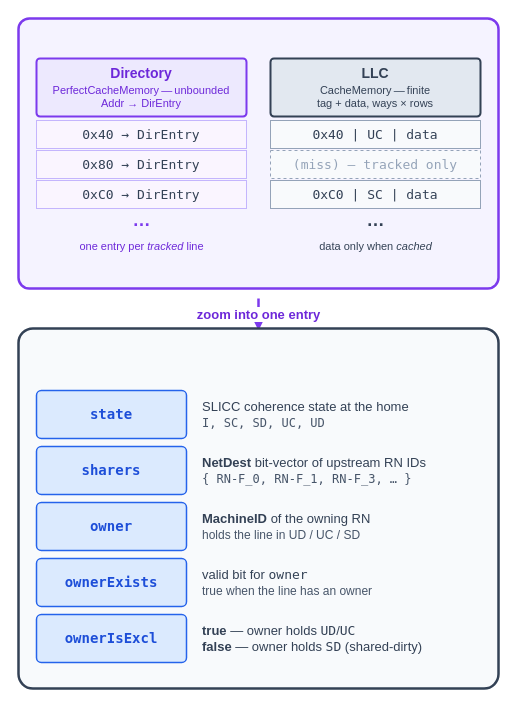
Image size: 517x707. Some labels were removed from this diagram. Here are the shapes that lost their labels. From the top down, the box of each, then its label:
(17, 17, 499, 289): HN-F slice — CHI-cache.sm , is_HN = true
(17, 327, 499, 689): DirEntry — one tracked line declared at CHI-cache.sm:590
